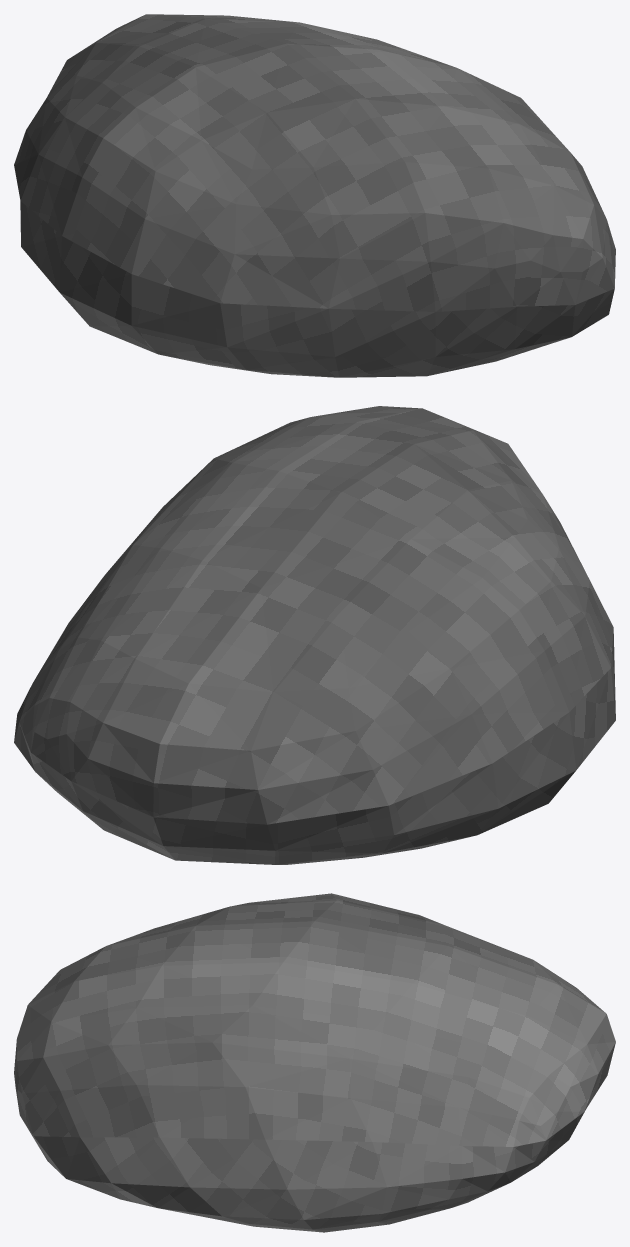
The model's file is Rock_02.fbx.
The picture shows the model from 3 angles, top to bottom: view 1: azimuth 30°, elevation 25°; view 2: azimuth 150°, elevation 25°; view 3: azimuth 270°, elevation 25°; orthographic projection. The views are drawn at different scales.
Visible parts, largest first — view 1: Rock_02; view 2: Rock_02; view 3: Rock_02.
Boxes of the visible parts, x1,y1,x2,y2 form: Rock_02: [14, 14, 615, 377]; Rock_02: [14, 406, 615, 864]; Rock_02: [14, 893, 615, 1232].
Bounding box in the file's own units: 3.34 × 1.98 × 4.27.
Materials: 1 (1 with a texture image).
